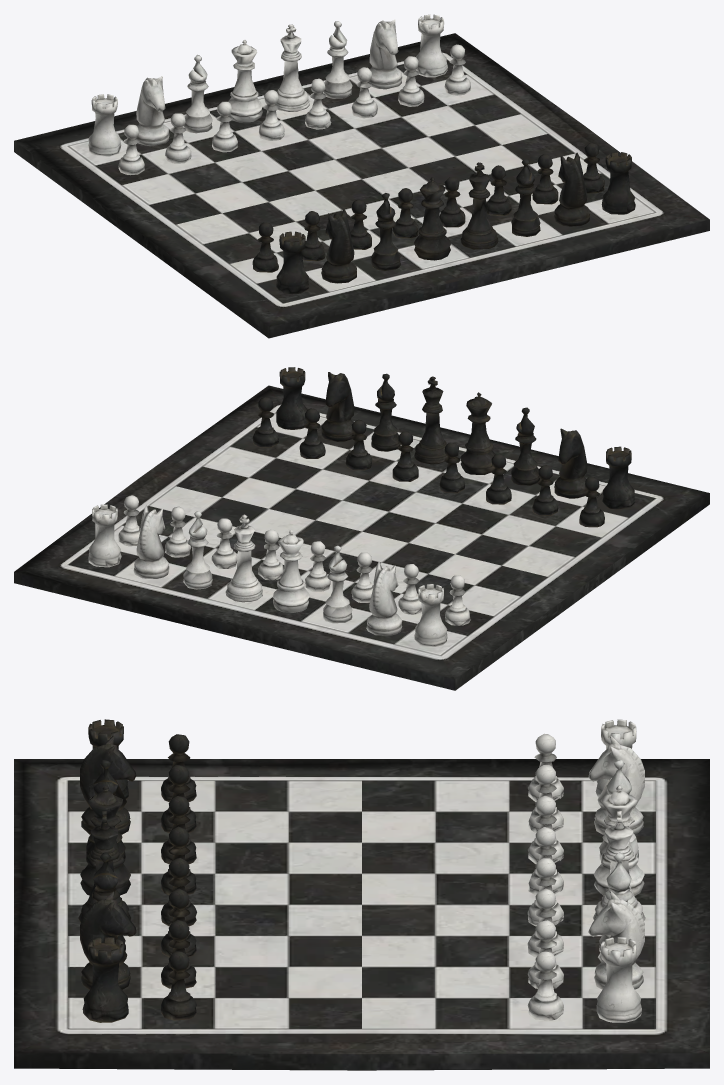
The model's file is chess.glb.
The picture shows the model from 3 angles, top to bottom: view 1: azimuth 30°, elevation 25°; view 2: azimuth 150°, elevation 25°; view 3: azimuth 270°, elevation 25°; orthographic projection. The views are drawn at different scales.
Visible parts, largest first — view 1: board, piece_rook_black_01, piece_rook_white_01; view 2: board, piece_rook_white_01, piece_rook_black_01; view 3: board, piece_rook_black_01, piece_rook_white_01.
Part boxes in pixels (<box>): board: <box>14,33,709,338</box>; piece_rook_black_01: <box>252,142,635,294</box>; piece_rook_white_01: <box>88,14,470,175</box>; board: <box>14,385,709,690</box>; piece_rook_white_01: <box>88,495,470,646</box>; piece_rook_black_01: <box>252,367,635,527</box>; board: <box>14,759,709,1070</box>; piece_rook_black_01: <box>78,719,196,1022</box>; piece_rook_white_01: <box>527,719,645,1022</box>.
Bounding box in the file's own units: 0.5507 × 0.1102 × 0.5482.
Materials: 3 (3 with a texture image).
